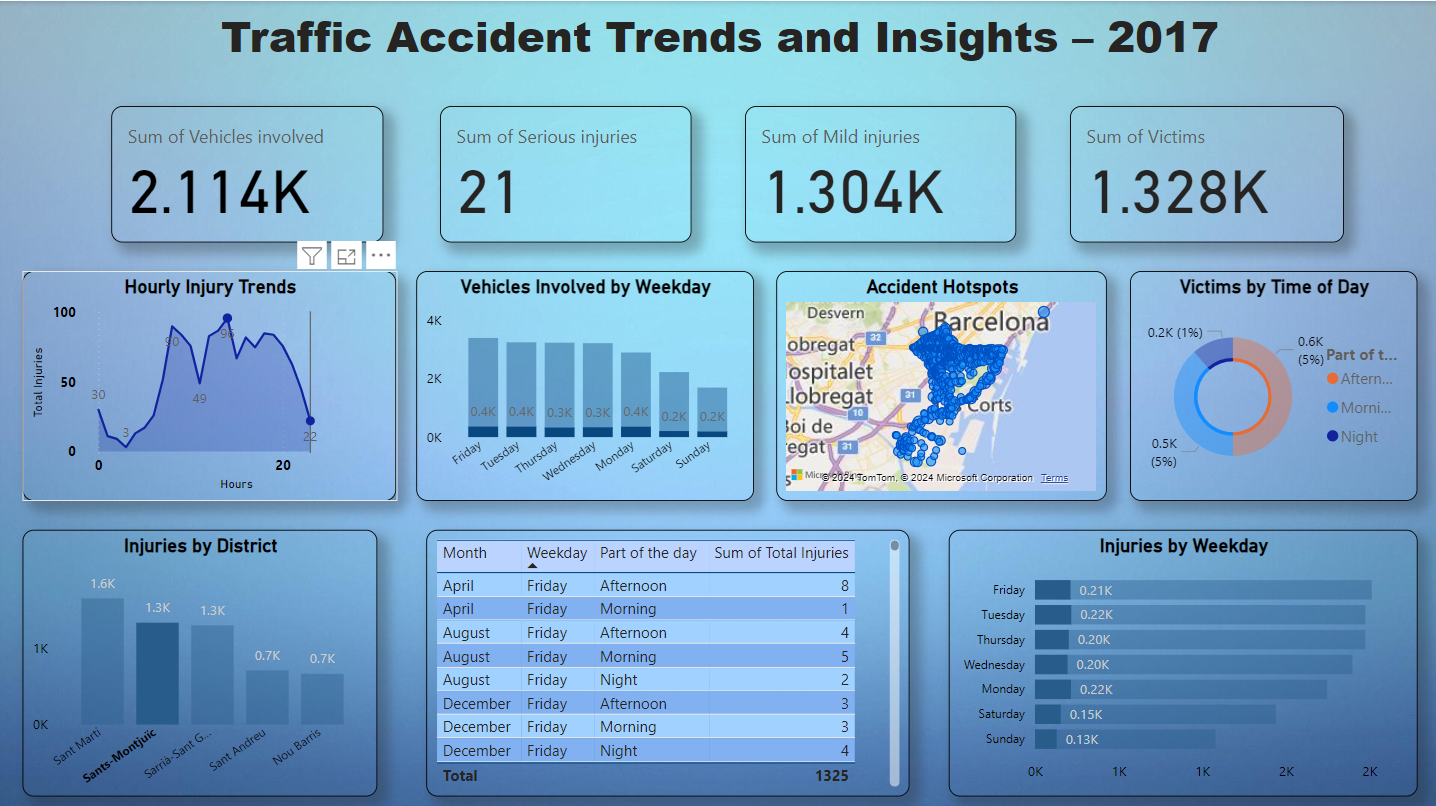

Layout of this report page (visuals, bound fields, positions):
{"tool":"powerbi","page":{"name":"Page 1","canvas":[1280,720],"ordinal":0},"visuals":[{"type":"cardVisual","fields":{"Data":["Sum(accidents_2017.Victims)"]},"box":[950.7,94.1,243.7,121.9],"z":0},{"type":"cardVisual","fields":{"Data":["Sum(accidents_2017.Serious injuries)"]},"box":[361.9,94.1,223.2,121.9],"z":1000},{"type":"clusteredColumnChart","title":"Injuries by District","fields":{"Category":["accidents_2017.District Name"],"Y":["Sum(accidents_2017.Total Injuries)"]},"box":[20.5,470.5,316.1,237.7],"z":2000},{"type":"clusteredBarChart","title":"Injuries by Weekday","fields":{"Category":["accidents_2017.Weekday"],"Y":["Sum(accidents_2017.Total Injuries)"]},"box":[844.5,470.5,417.4,237.7],"z":3000},{"type":"cardVisual","fields":{"Data":["Sum(accidents_2017.Vehicles involved)"]},"box":[65.1,94.1,243.7,121.9],"z":4000},{"type":"cardVisual","fields":{"Data":["Sum(accidents_2017.Mild injuries)"]},"box":[640.6,94.1,241.3,121.9],"z":5000},{"type":"tableEx","fields":{"Values":["accidents_2017.Month","accidents_2017.Weekday","accidents_2017.Part of the day","Sum(accidents_2017.Total Injuries)"]},"box":[380,470.5,430.7,237.7],"z":6000},{"type":"lineChart","title":"Hourly Injury Trends","fields":{"Category":["accidents_2017.Hour"],"Y":["Sum(accidents_2017.Total Injuries)"]},"box":[20.5,240.1,333,205.1],"z":7000},{"type":"map","title":"Accident Hotspots","fields":{"X":["accidents_2017.Longitude"],"Y":["accidents_2017.Latitude"],"Size":["Count(accidents_2017.Total Injuries)"]},"box":[691.3,240.1,294.4,205.1],"z":8000},{"type":"clusteredColumnChart","title":"Vehicles Involved by Weekday","fields":{"Category":["accidents_2017.Weekday"],"Y":["Sum(accidents_2017.Vehicles involved)"]},"box":[370.4,240.1,300.4,205.1],"z":9000},{"type":"donutChart","title":"Victims by Time of Day","fields":{"Category":["accidents_2017.Part of the day"],"Y":["Sum(accidents_2017.Victims)"]},"box":[1006.2,240.1,255.8,205.1],"z":10000},{"type":"textbox","box":[0,0,1280,66.4],"z":11000}]}

Visuals, with their boxes in screenshot pixels (x1, y1, x2, y2), scaled from the page's 1280x720 canvas onto the 1436x806 screenshot:
cardVisual - Sum(accidents_2017.Victims): select_region(1067, 105, 1340, 242)
cardVisual - Sum(accidents_2017.Serious injuries): select_region(406, 105, 656, 242)
"Injuries by District" clusteredColumnChart: select_region(23, 527, 378, 793)
"Injuries by Weekday" clusteredBarChart: select_region(947, 527, 1416, 793)
cardVisual - Sum(accidents_2017.Vehicles involved): select_region(73, 105, 346, 242)
cardVisual - Sum(accidents_2017.Mild injuries): select_region(719, 105, 989, 242)
tableEx - accidents_2017.Month x accidents_2017.Weekday: select_region(426, 527, 910, 793)
"Hourly Injury Trends" lineChart: select_region(23, 269, 397, 498)
"Accident Hotspots" map: select_region(776, 269, 1106, 498)
"Vehicles Involved by Weekday" clusteredColumnChart: select_region(416, 269, 753, 498)
"Victims by Time of Day" donutChart: select_region(1129, 269, 1416, 498)
textbox: select_region(0, 0, 1435, 74)
